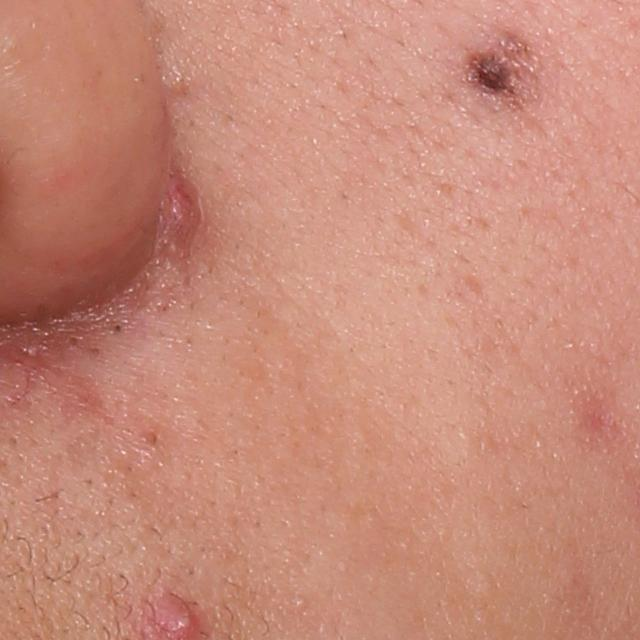comedo: (109, 319, 126, 338)
nevus: (464, 52, 517, 102)
